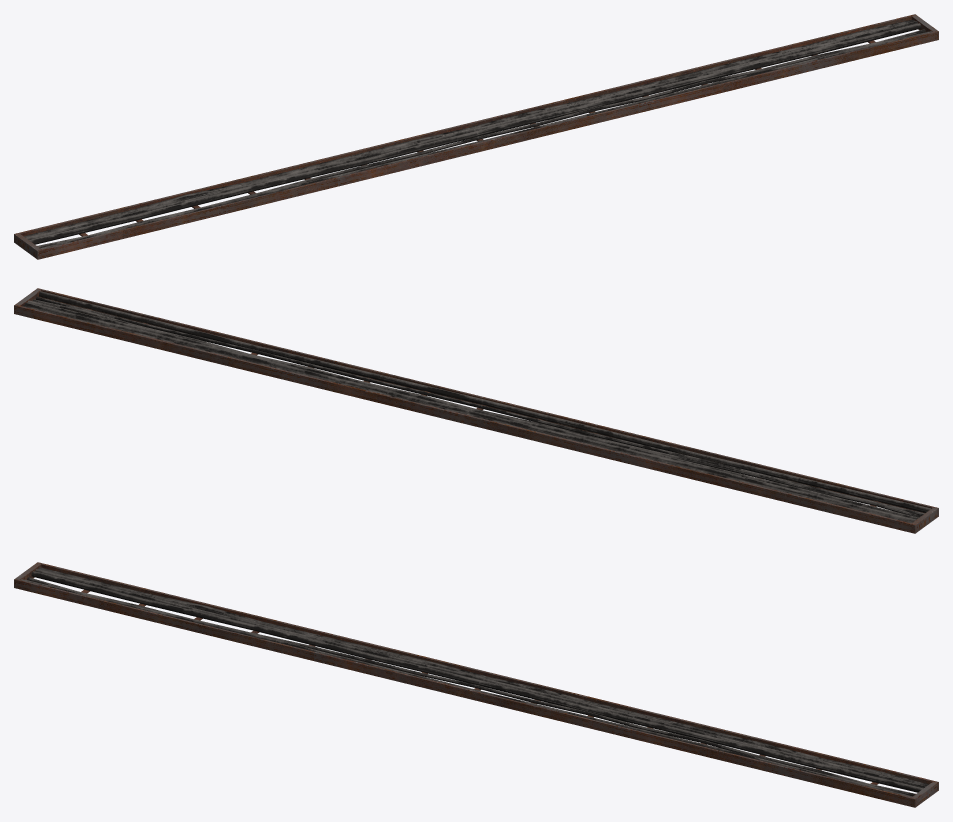
The model's file is CableRail.fbx.
3 views of the same model, one above another, from view 1: azimuth 30°, elevation 25°; view 2: azimuth 150°, elevation 25°; view 3: azimuth 330°, elevation 25° (orthographic).
Parts seen in each view (by area): view 1: CableRail; view 2: CableRail; view 3: CableRail.
Boxes of the visible parts, box(x1,y1,x2,y2) form: CableRail: box(14, 14, 938, 259); CableRail: box(14, 288, 938, 533); CableRail: box(14, 562, 938, 807).
Bounding box in the file's own units: 800 × 7.18 × 36.54.
Materials: 1 (1 with a texture image).
